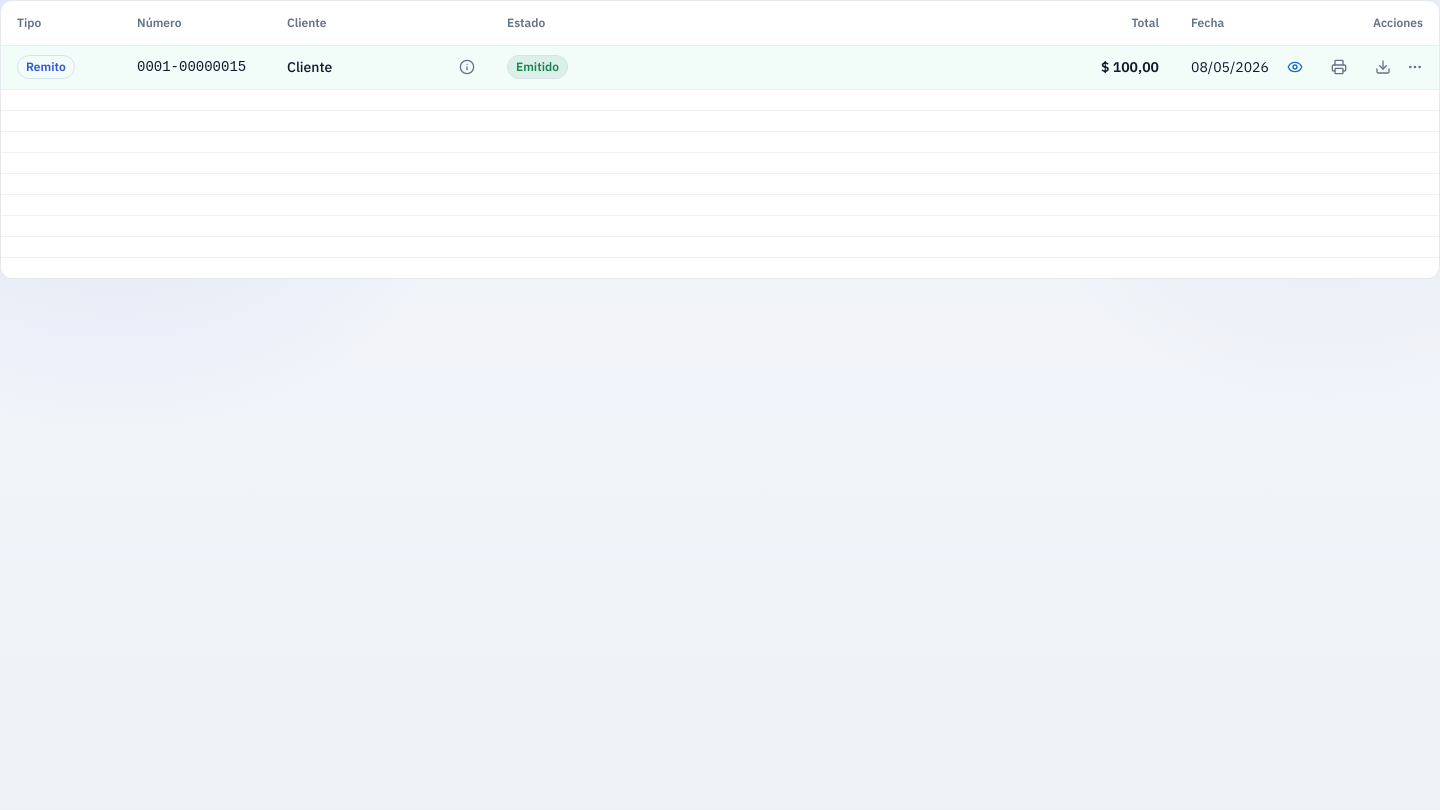
Test case: DocumentsDataTable cash registration › shows the registered state and prevents another registration
This screenshot has width=1440, height=810.
Click the button named "acciones": (1415, 67) [1407, 47, 1423, 87]
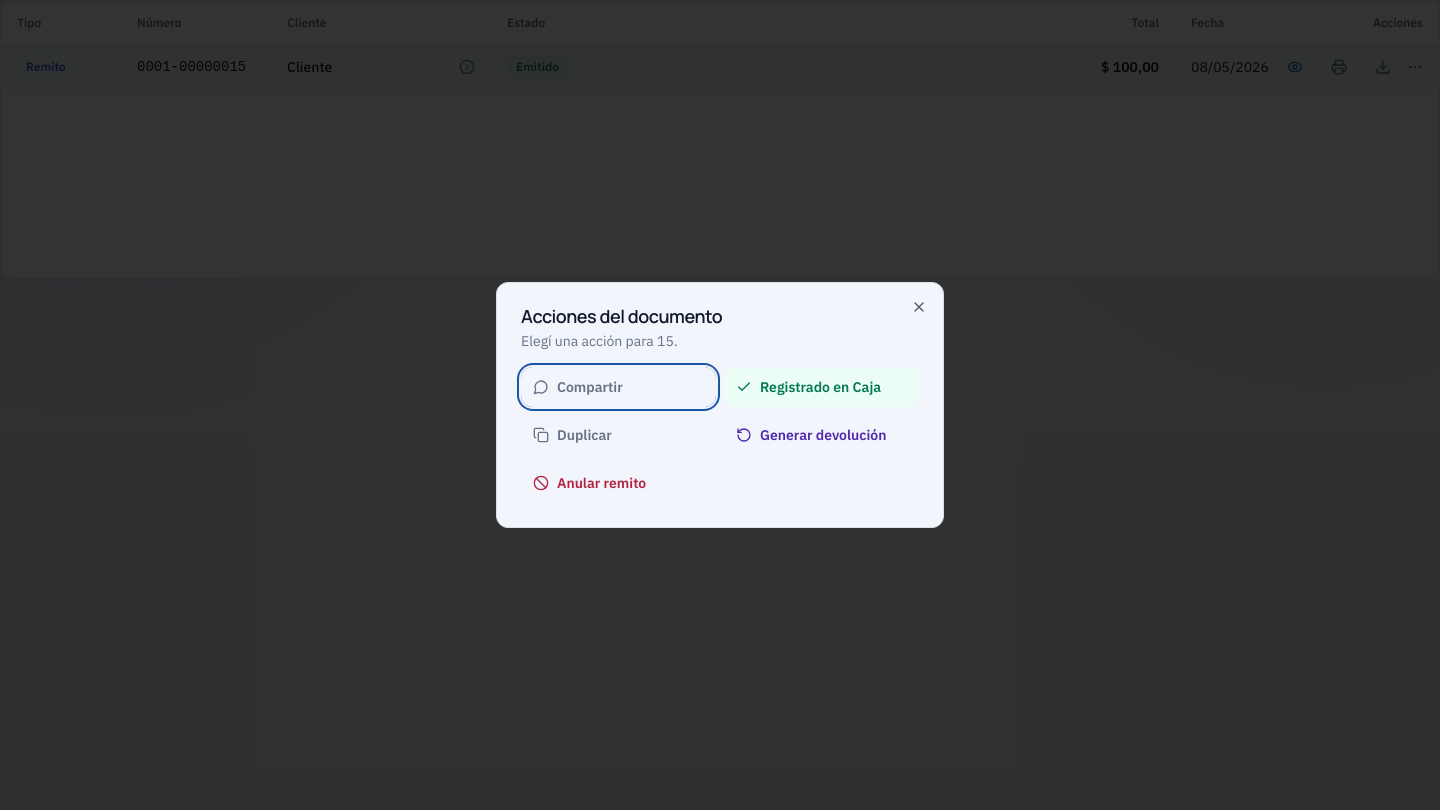
expect the text "Registrado en Caja" is shown: met, box [760, 377, 881, 397]
